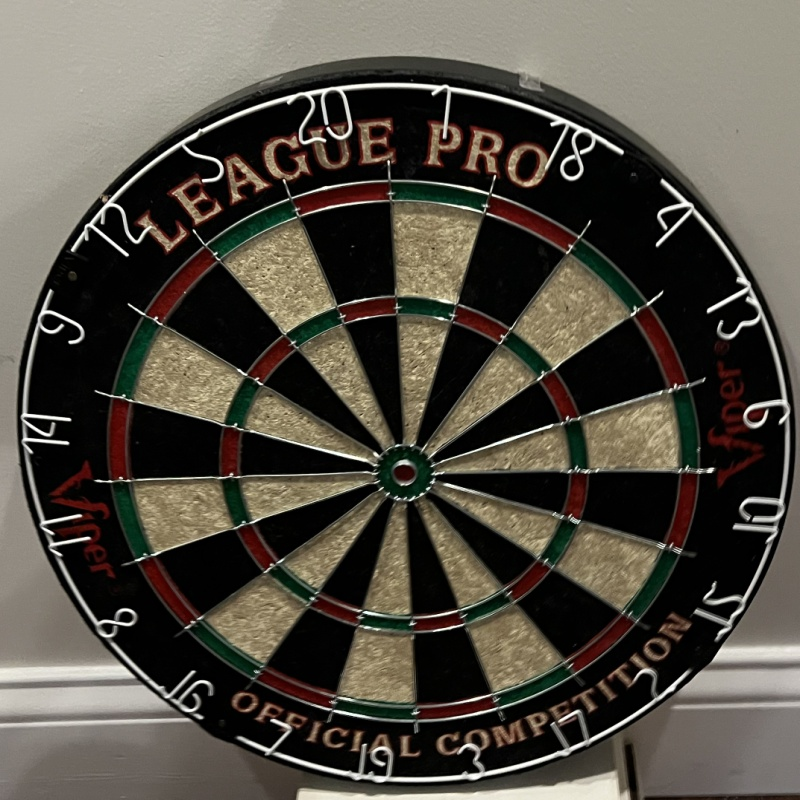eleven: (40, 509, 90, 559)
six: (732, 492, 783, 544)
three: (455, 743, 490, 778)
twenty: (288, 82, 352, 147)
